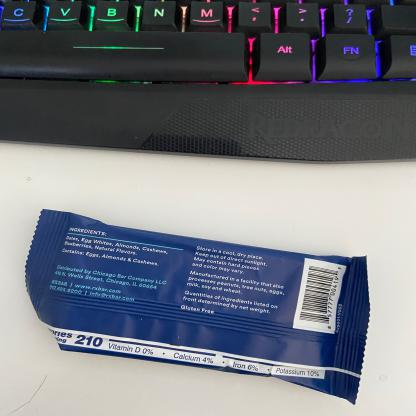ProteinBars: (38, 210, 365, 403)
